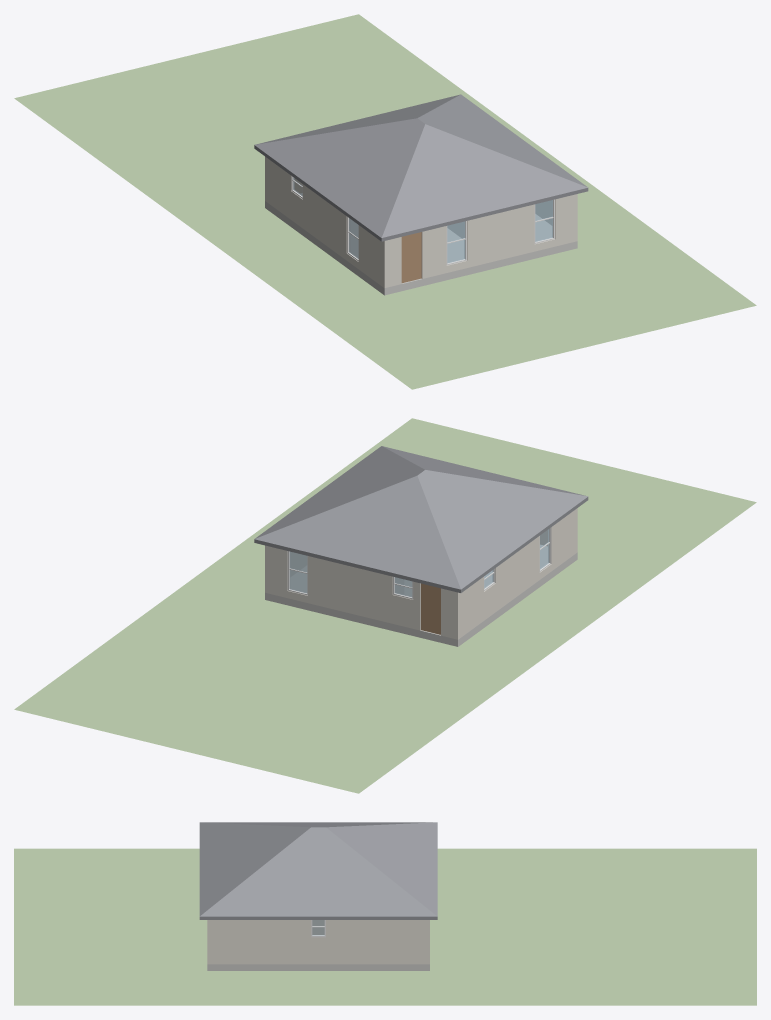
3 renders of one model, top to bottom at view 1: azimuth 30°, elevation 25°; view 2: azimuth 150°, elevation 25°; view 3: azimuth 270°, elevation 25°, orthographic. The views are drawn at different scales.
Parts seen in each view (by area): view 1: Lot, Hip roof, Wall ext-front, Wall ext-left, Floor First Floor, Door D01, Window N01, Window N05; view 2: Lot, Hip roof, Wall ext-back, Wall ext-left, Floor First Floor, Door D02, Window N06; view 3: Lot, Hip roof, Wall ext-right, Floor First Floor.
Boxes of the visible parts, left/top/right/bottom form: Lot: left=14, top=14, right=756, bottom=389; Hip roof: left=254, top=94, right=588, bottom=241; Wall ext-front: left=382, top=194, right=577, bottom=288; Wall ext-left: left=267, top=158, right=382, bottom=286; Floor First Floor: left=265, top=193, right=577, bottom=295; Door D01: left=401, top=232, right=421, bottom=283; Window N01: left=447, top=221, right=465, bottom=263; Window N05: left=535, top=200, right=552, bottom=241; Lot: left=14, top=418, right=756, bottom=793; Hip roof: left=254, top=446, right=588, bottom=592; Wall ext-back: left=265, top=545, right=459, bottom=639; Wall ext-left: left=460, top=509, right=575, bottom=637; Floor First Floor: left=265, top=545, right=577, bottom=646; Door D02: left=421, top=583, right=440, bottom=634; Window N06: left=289, top=551, right=307, bottom=593; Lot: left=14, top=848, right=756, bottom=1005; Hip roof: left=199, top=822, right=437, bottom=919; Wall ext-right: left=211, top=920, right=426, bottom=964; Floor First Floor: left=207, top=964, right=429, bottom=970.
Bounding box in the file's own units: 15.24 × 4.52 × 30.48.
